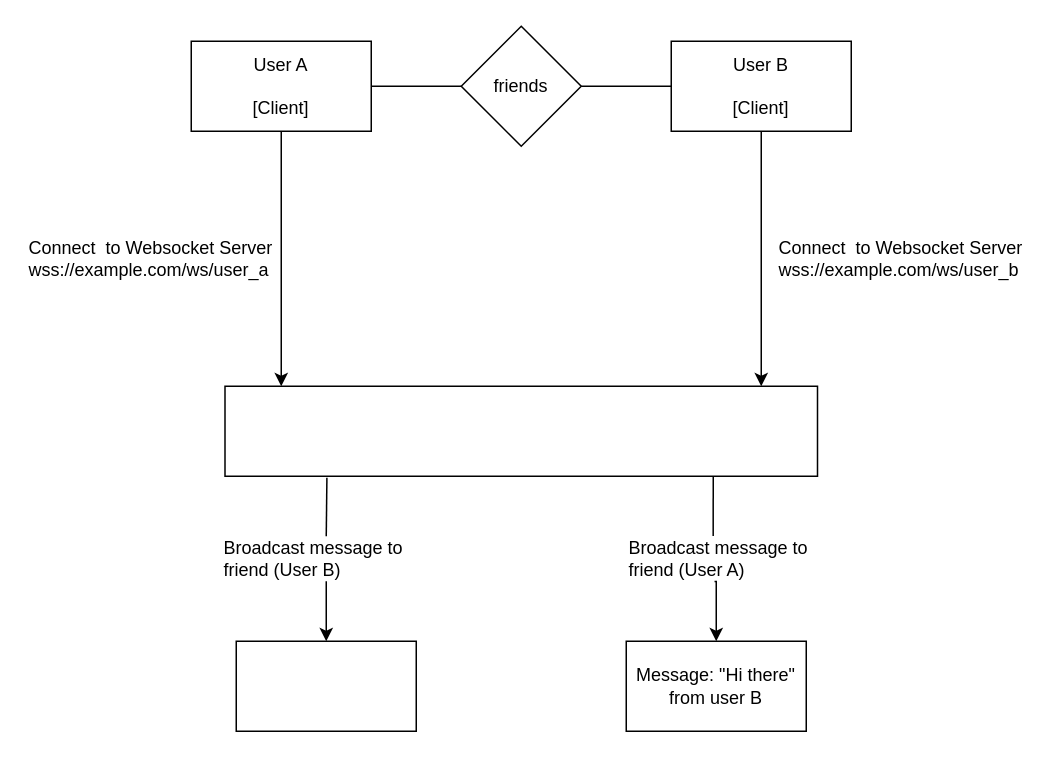
This 1056x758 diagram has some shape labels left out. The shapes that lost their labels are listed below. From the top down, each one's centre as x and y in pixels, then its label:
pixel 521 430: Websocket Server (Connection Manager)
pixel 325 685: Message: "Hello" from user A
